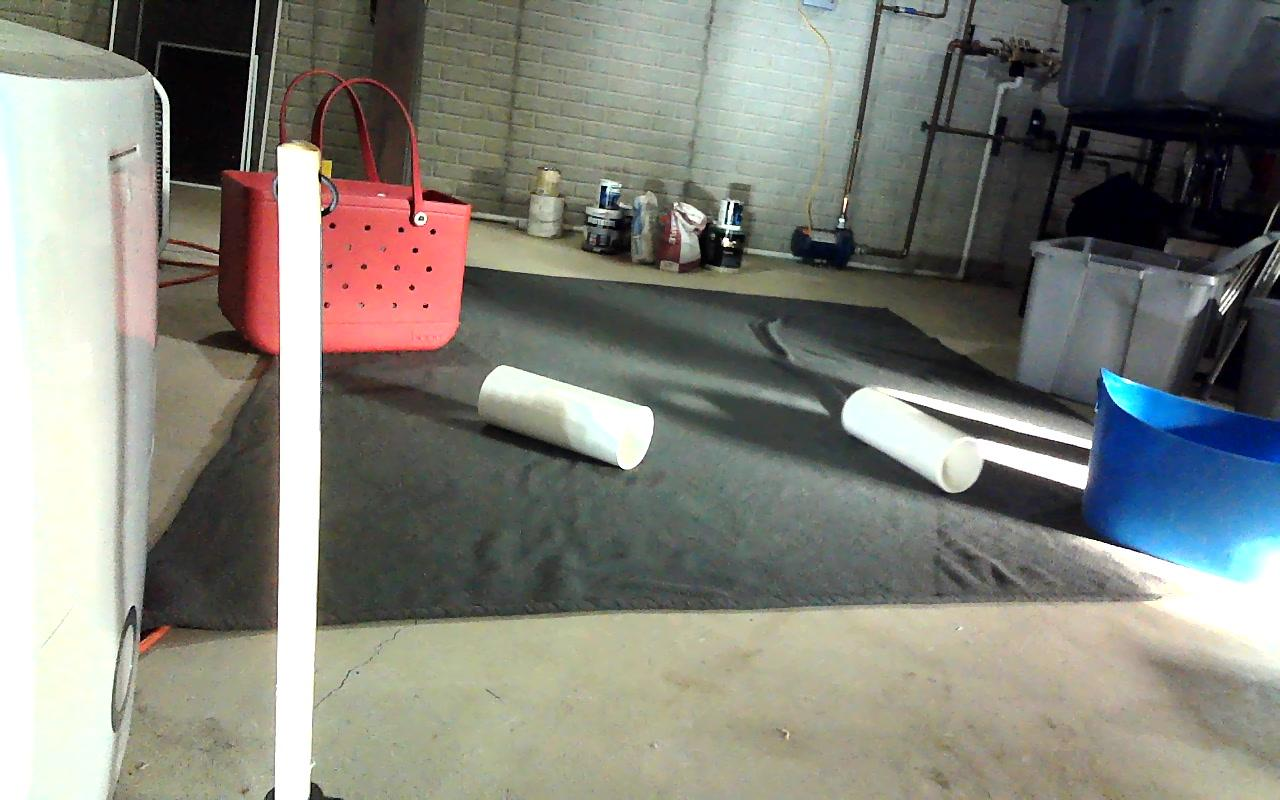coral: (478, 365, 654, 469), (841, 387, 982, 492)
